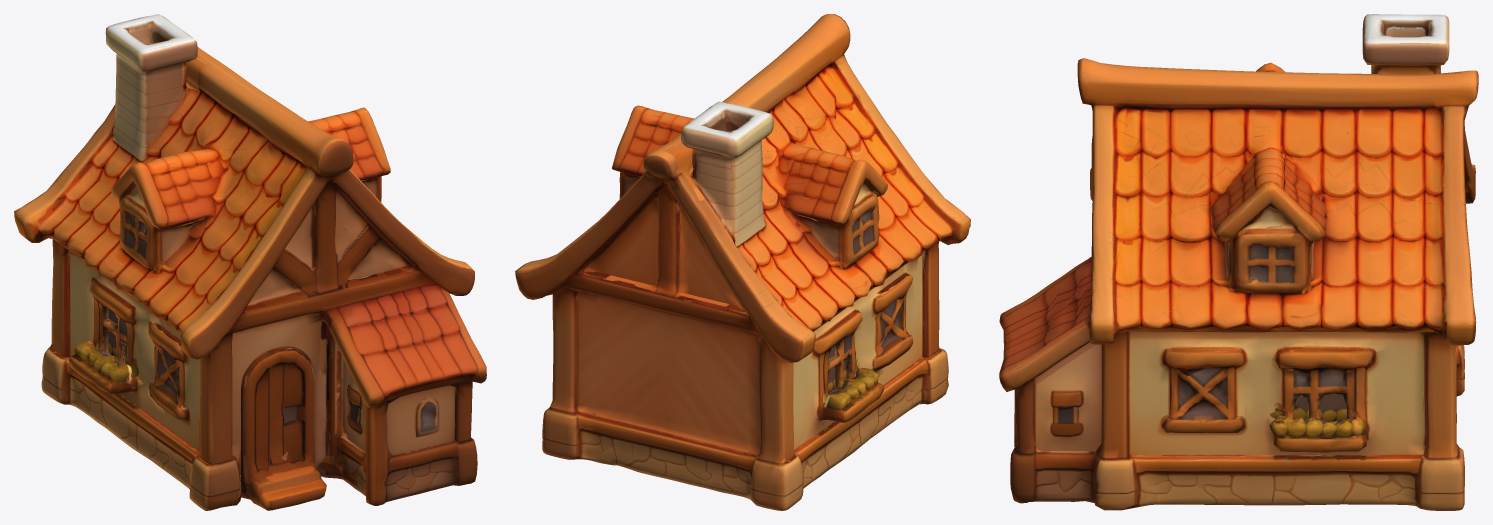
Rendered from Casa_Granja1.fbx.
3 renders of one model, left to right at view 1: azimuth 30°, elevation 25°; view 2: azimuth 150°, elevation 25°; view 3: azimuth 270°, elevation 25°, orthographic. The views are drawn at different scales.
Visible parts, largest first — view 1: Retopo_model; view 2: Retopo_model; view 3: Retopo_model.
Boxes of the visible parts, bbox=[...] form: Retopo_model: bbox=[14, 14, 486, 510]; Retopo_model: bbox=[515, 14, 970, 510]; Retopo_model: bbox=[999, 14, 1478, 510].
Size of the model in its own units: 133 by 156 by 171.
Materials: 1 (1 with a texture image).
